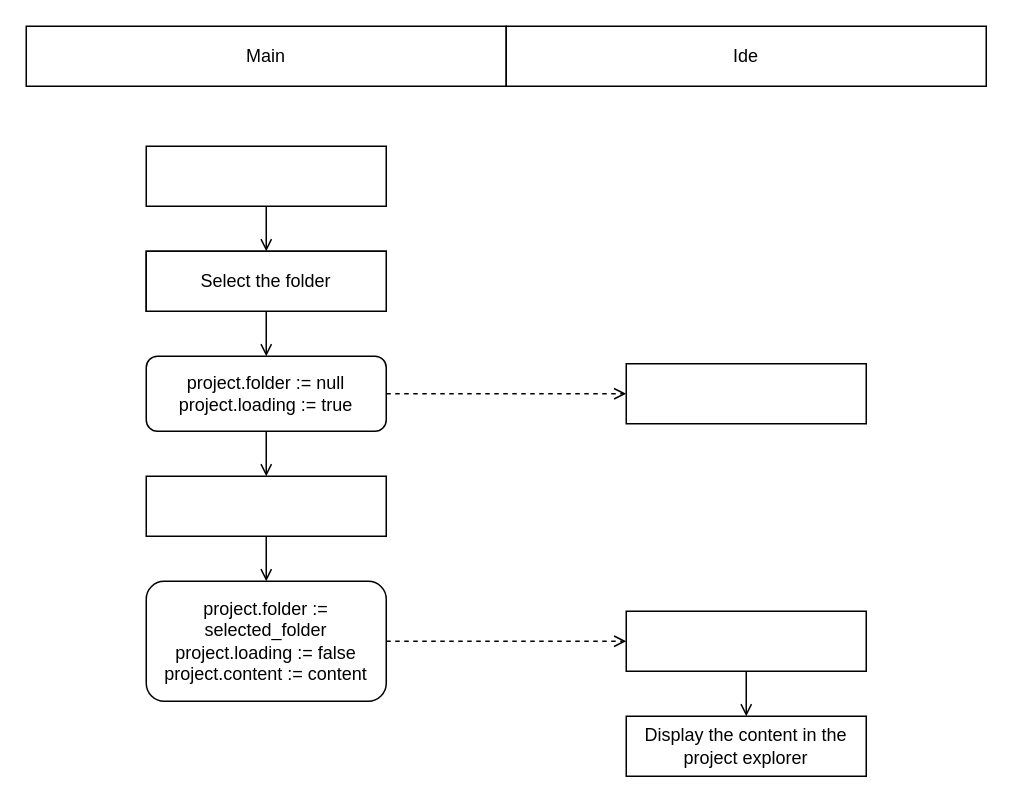
Some shapes in this 1013 by 803 pixel diagram are drawn without their labels. Here are the shapes that lost their labels. From the top down, the box of each, then its label:
(145, 145, 386, 206): Open folder command
(625, 362, 866, 424): Indicate the project is loading
(145, 475, 386, 536): Load the project folder
(625, 610, 866, 671): Indicate the project is loaded
